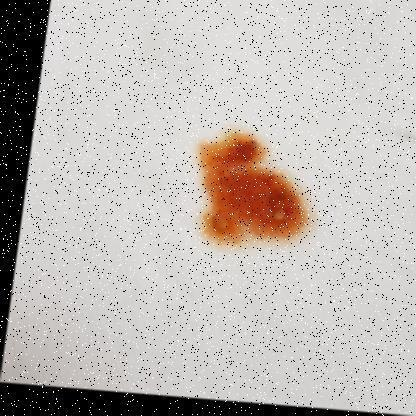kimchi: (196, 124, 310, 248)
